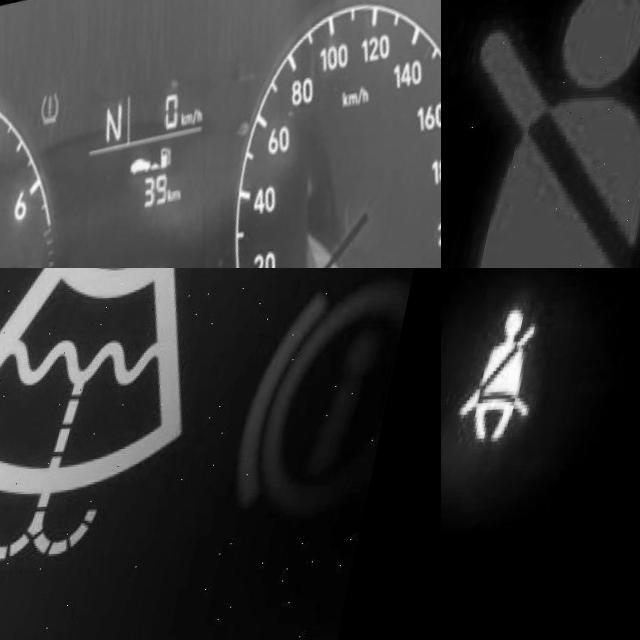Seat Belt: (441, 0, 640, 268), (472, 306, 558, 445)
Washer Fluid: (0, 268, 230, 565)
